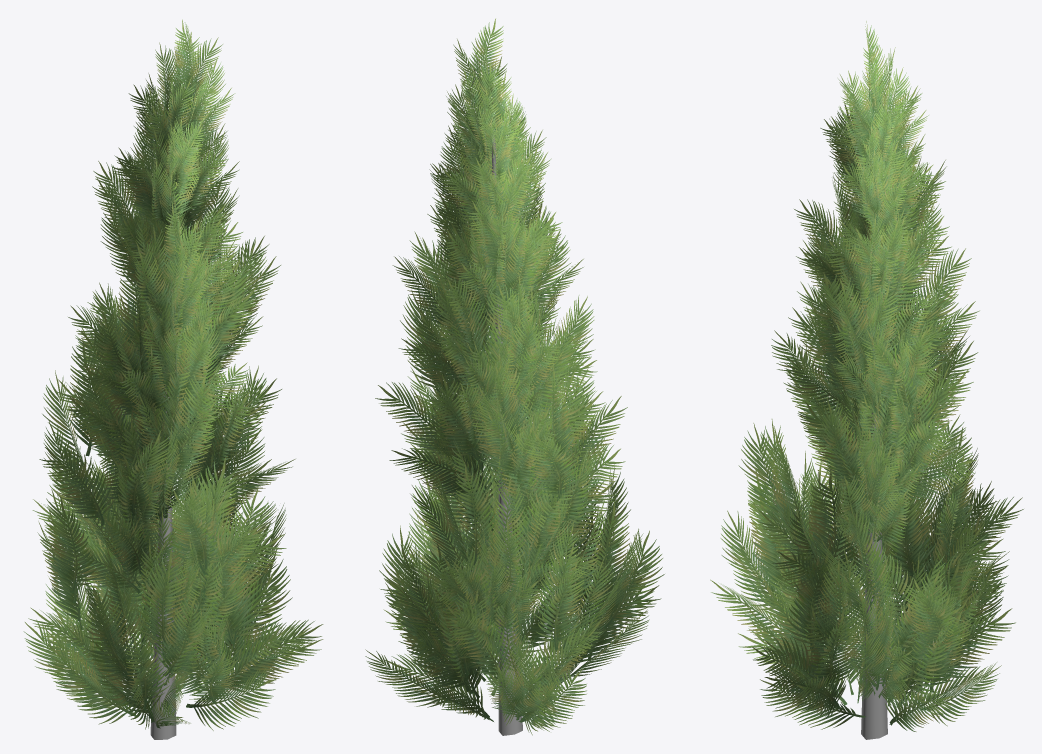
File: SM_Castle_Bush_Cone_02.fbx
3 views of the same model, side by side, from view 1: azimuth 30°, elevation 25°; view 2: azimuth 150°, elevation 25°; view 3: azimuth 270°, elevation 25° (orthographic). The views are drawn at different scales.
Parts seen in each view (by area): view 1: SM_Castle_Bush_Cone_02_LOD0; view 2: SM_Castle_Bush_Cone_02_LOD0; view 3: SM_Castle_Bush_Cone_02_LOD0.
Part boxes in pixels (left/top/right/bottom): SM_Castle_Bush_Cone_02_LOD0: left=23, top=19, right=323, bottom=739; SM_Castle_Bush_Cone_02_LOD0: left=365, top=18, right=664, bottom=735; SM_Castle_Bush_Cone_02_LOD0: left=710, top=21, right=1023, bottom=739.
Bounding box in the file's own units: 244 × 658 × 265.
